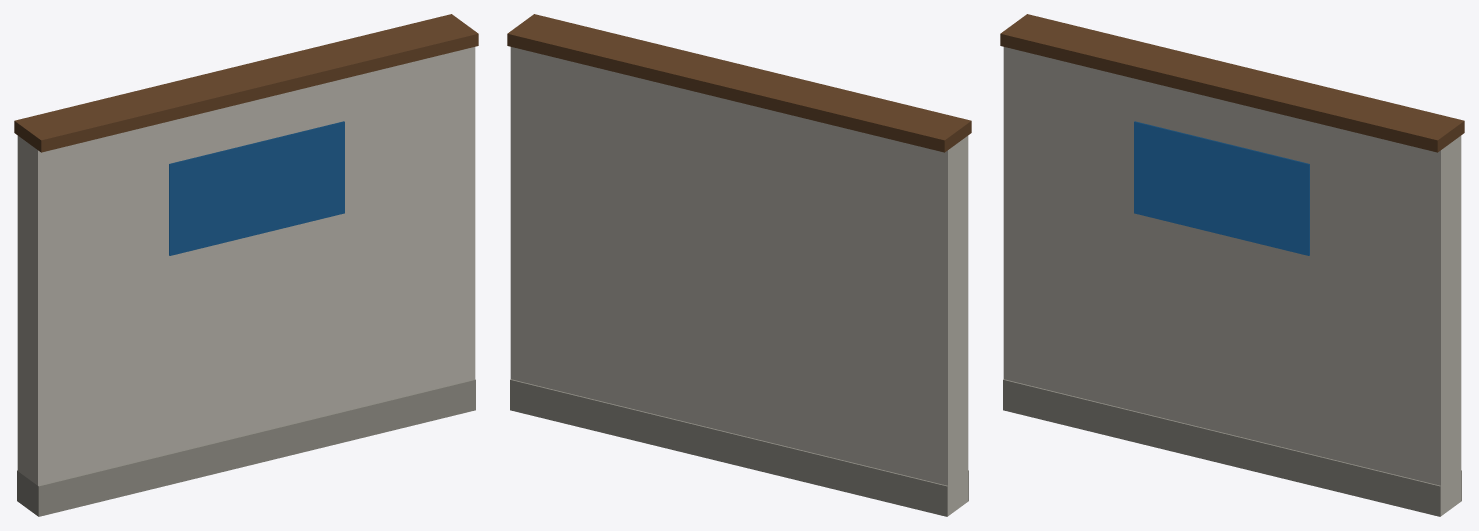
Rendered from ac_partition.glb.
3 views of the same model, side by side, from view 1: azimuth 30°, elevation 25°; view 2: azimuth 150°, elevation 25°; view 3: azimuth 330°, elevation 25° (orthographic).
Visible parts, largest first — view 1: ac_partition; view 2: ac_partition; view 3: ac_partition.
Part boxes in pixels (x1,y1,x2,y2): ac_partition: (14, 14, 478, 516); ac_partition: (507, 14, 971, 516); ac_partition: (1000, 14, 1464, 516).
Size of the model in its own units: 1.5 by 1.24 by 0.16.
